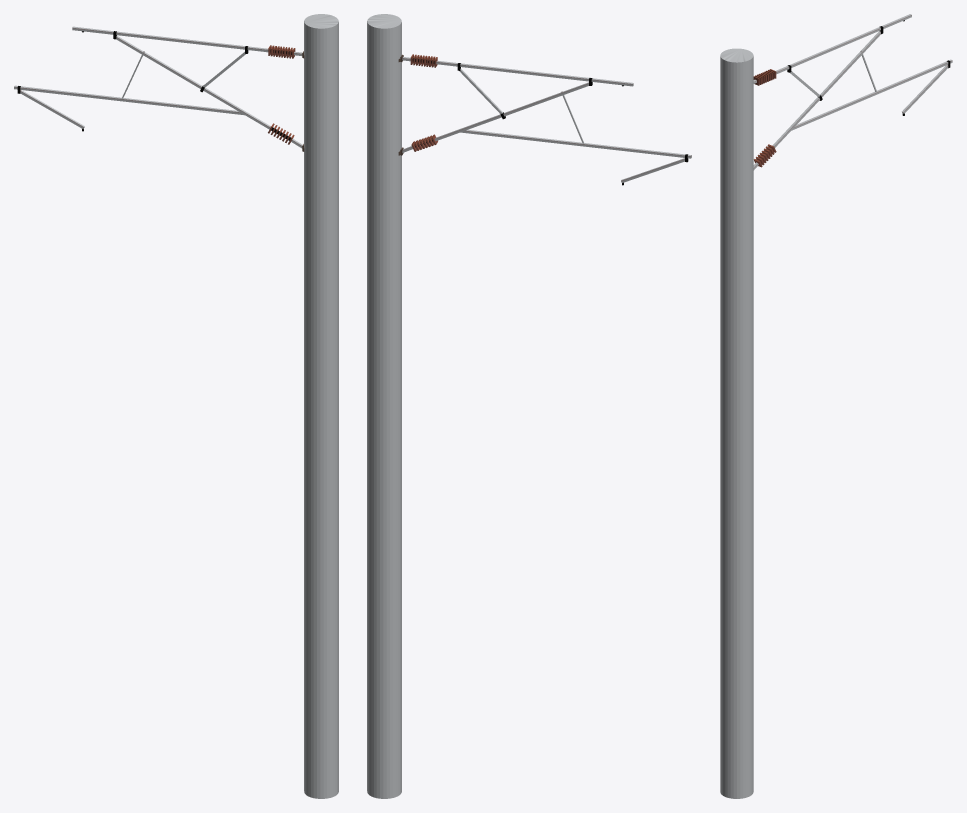
File: 45d_catenary_circular_anti.obj
3 renders of one model, left to right at view 1: azimuth 30°, elevation 25°; view 2: azimuth 210°, elevation 25°; view 3: azimuth 270°, elevation 25°, orthographic. The views are drawn at different scales.
Parts seen in each view (by area): view 1: catenary_anti; view 2: catenary_anti; view 3: catenary_anti.
Boxes of the visible parts, x1,y1,x2,y2 form: catenary_anti: (14, 14, 338, 798); catenary_anti: (367, 14, 691, 798); catenary_anti: (720, 14, 952, 798).
Bounding box in the file's own units: 2.78 × 9.73 × 2.78.
4 materials, 4 textured.
